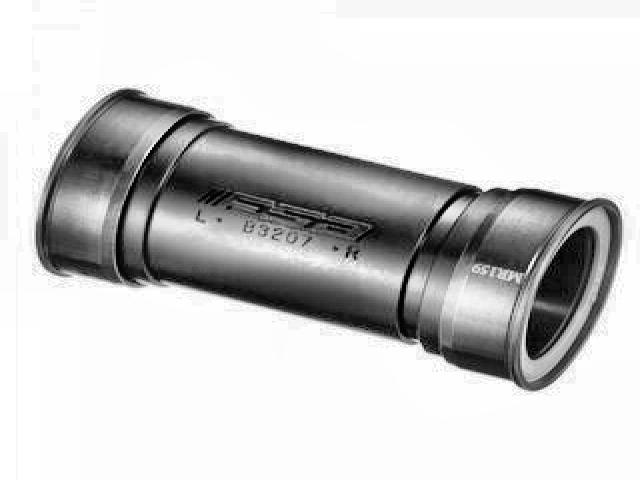bottom_bracket: (29, 85, 627, 398)
